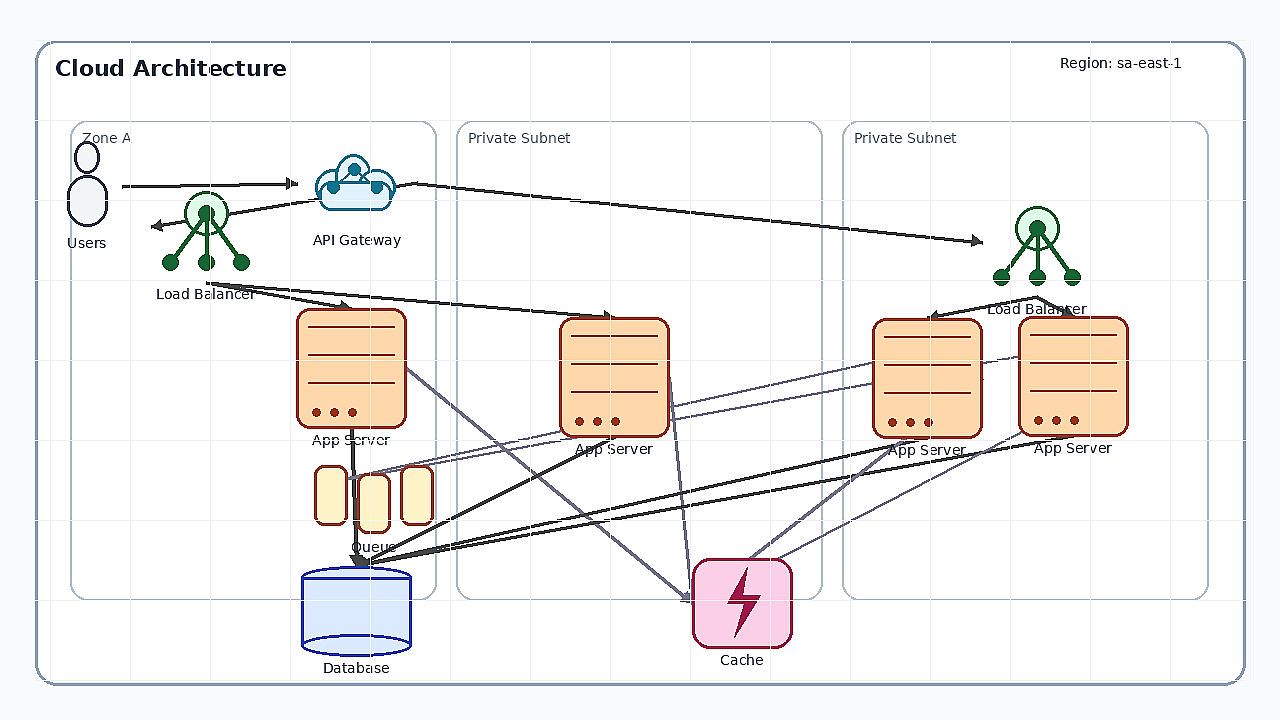API Gateway: (297, 138, 417, 228)
Application Server: (296, 308, 406, 428), (559, 317, 669, 437), (1018, 316, 1128, 436), (872, 318, 982, 438)
Cache: (692, 558, 792, 648)
Database: (301, 566, 411, 656)
Load Balancer: (151, 172, 261, 282), (982, 187, 1092, 297)
Message Queue: (314, 465, 434, 535)
User: (52, 141, 122, 231)
